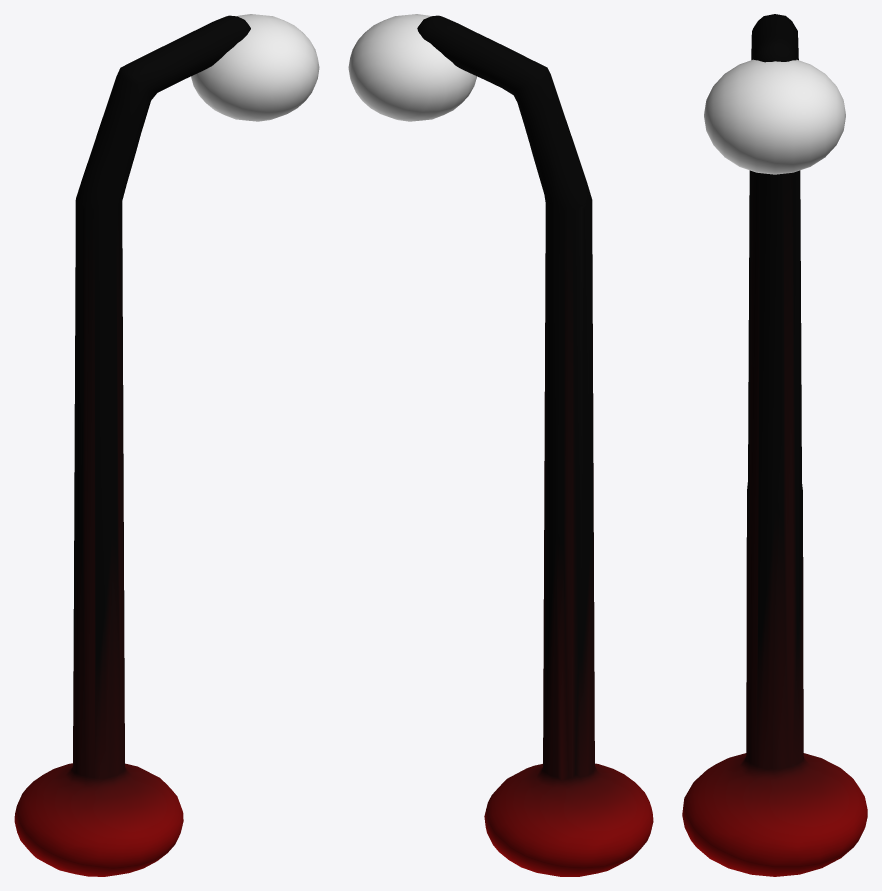
The model's file is bg-city-b.glb.
3 views of the same model, side by side, from view 1: azimuth 30°, elevation 25°; view 2: azimuth 150°, elevation 25°; view 3: azimuth 270°, elevation 25° (orthographic). The views are drawn at different scales.
Parts seen in each view (by area): view 1: pole, bulb; view 2: pole, bulb; view 3: pole, bulb.
Part boxes in pixels (x1,y1,x2,y2): pole: (14,15,250,876); bulb: (191,14,319,121); pole: (417,15,653,876); bulb: (348,14,476,121); pole: (682,14,867,876); bulb: (704,59,845,174).
Size of the model in its own units: 1.92 by 5.31 by 0.9912.
